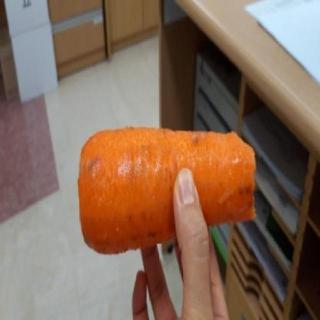carrot: (76, 117, 260, 260)
